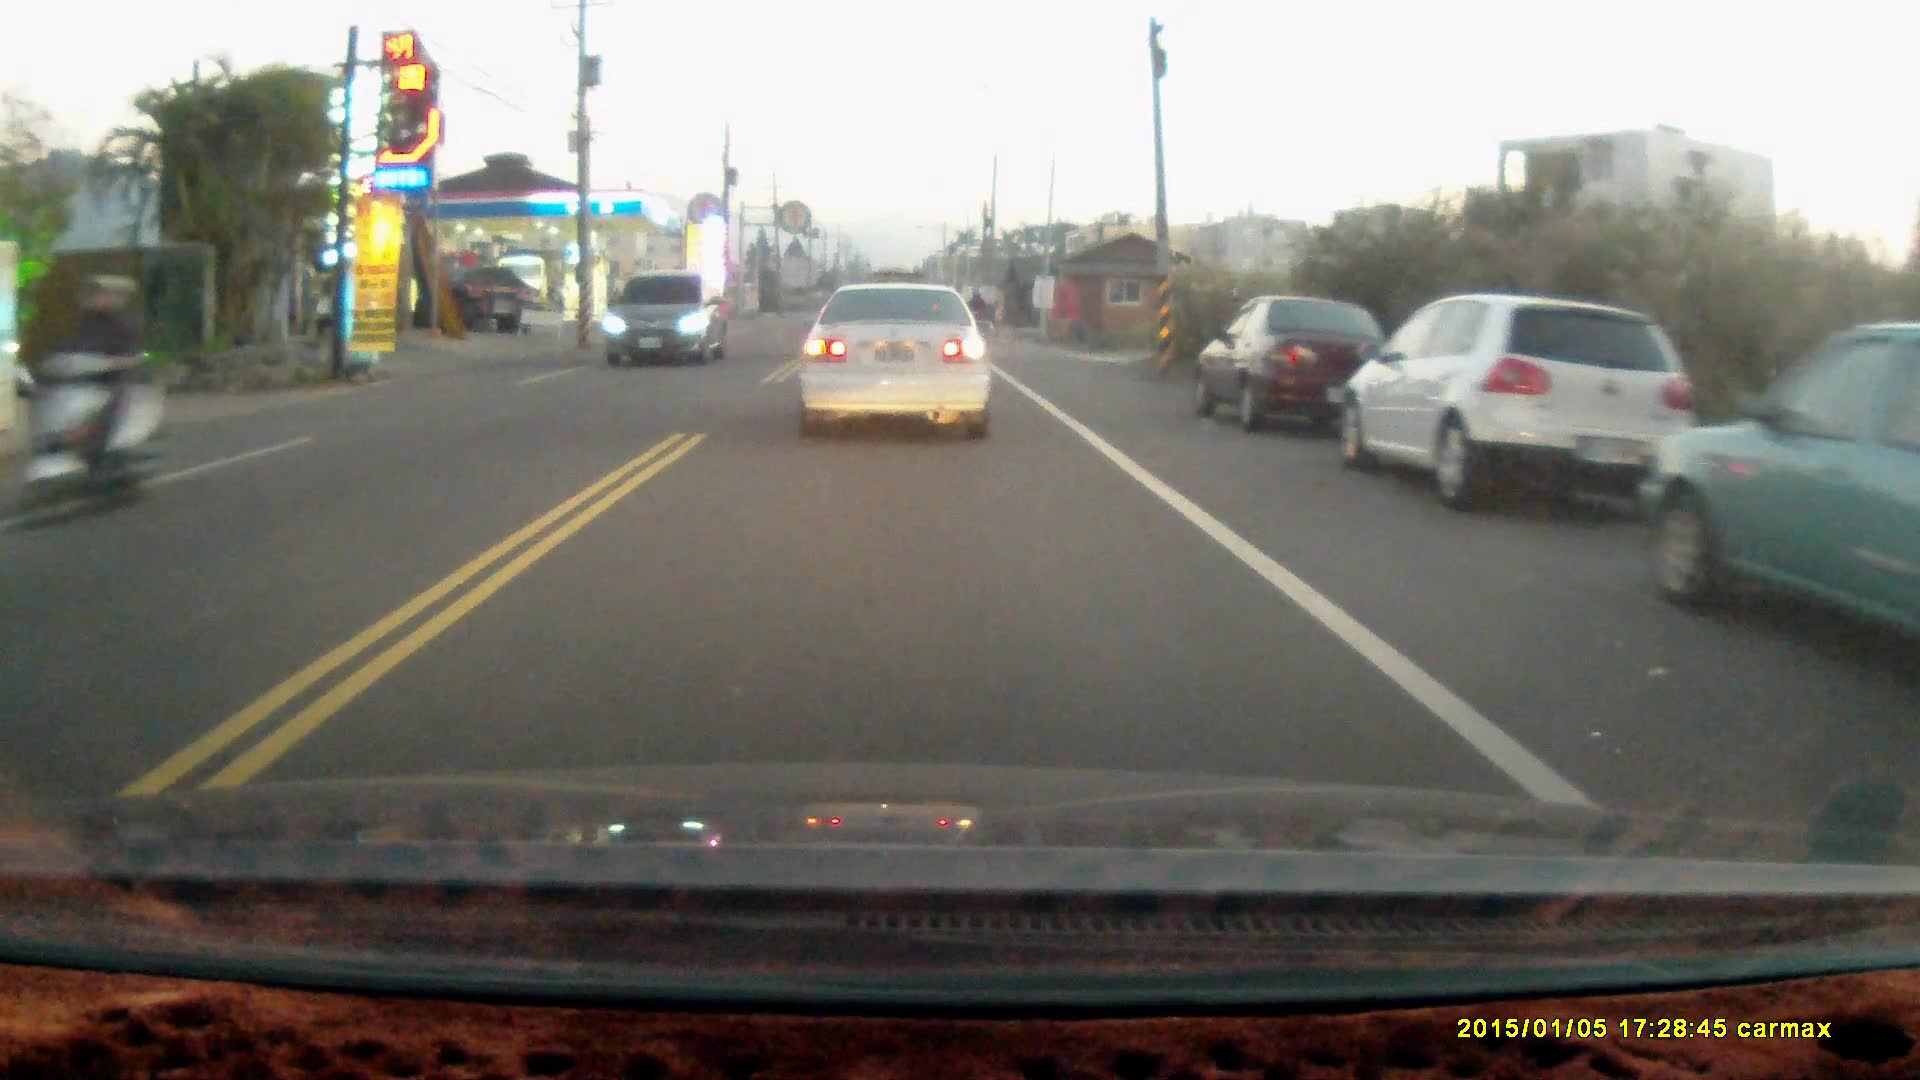rider: (16, 272, 170, 521)
vehicle: (1638, 322, 1920, 674), (1341, 293, 1696, 510), (797, 281, 995, 448), (1195, 295, 1404, 433), (602, 272, 730, 365)
